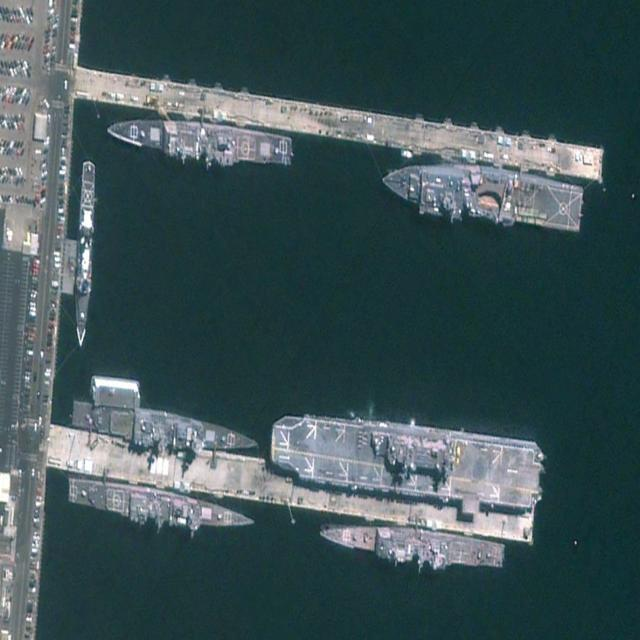Cruiser: (65, 472, 256, 546), (71, 395, 259, 465), (105, 109, 293, 172), (318, 517, 505, 575)
Landing: (268, 405, 545, 524), (379, 150, 584, 240)
Other Ship: (74, 160, 96, 347)
